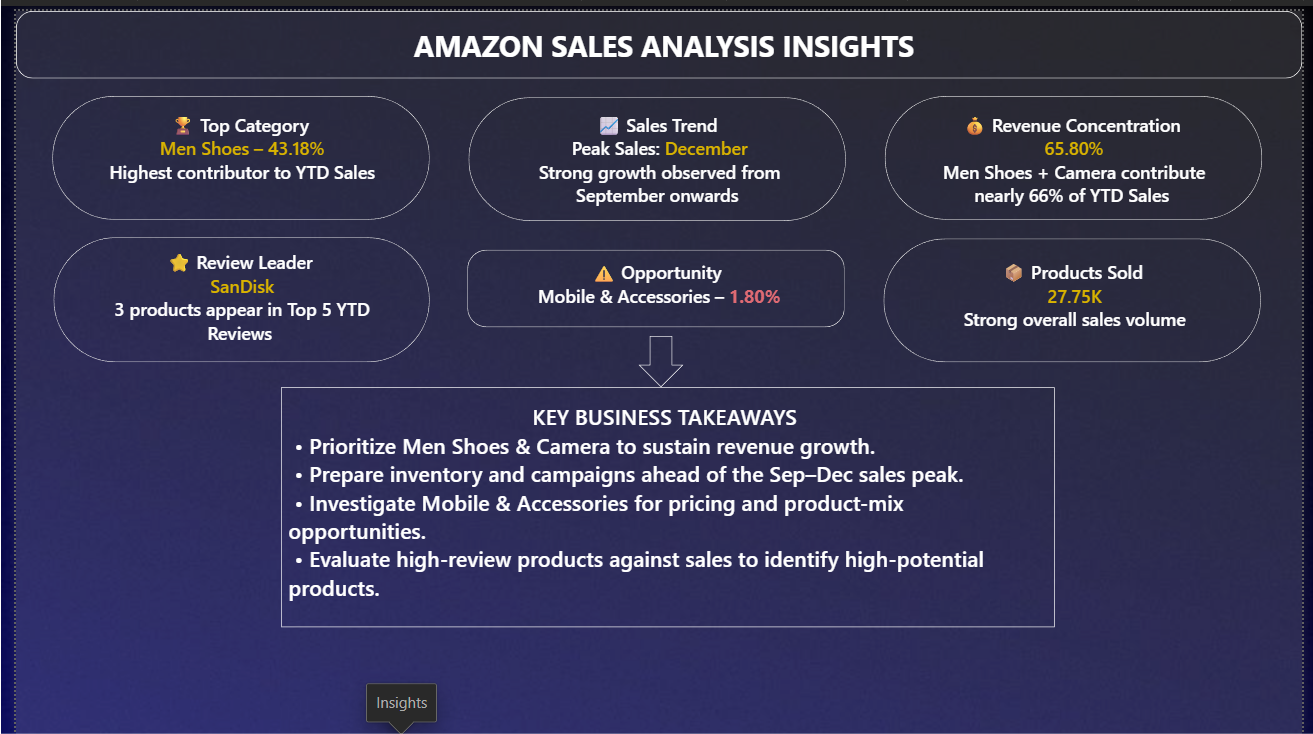

The dashboard page shown, as its layout file describes it:
{"tool":"powerbi","page":{"name":"Insights","canvas":[1920,1080],"ordinal":1},"visuals":[{"type":"shape","title":"jhjkk","box":[0,0,1920.1,100.8],"z":0},{"type":"textbox","box":[291.1,22.4,1364,63.4],"z":1000},{"type":"textbox","box":[91.4,151.1,485.1,145.5],"z":1500},{"type":"shape","box":[54.1,126.9,563.5,184.7],"z":2000},{"type":"shape","box":[675.5,128.7,563.5,184.7],"z":4000},{"type":"shape","box":[1296.8,126.9,563.5,184.7],"z":5000},{"type":"shape","box":[56,337.7,561.6,186.6],"z":5500},{"type":"textbox","box":[714.7,151.1,485.1,145.5],"z":6000},{"type":"textbox","box":[1339.7,151.1,472.1,145.5],"z":7000},{"type":"textbox","box":[91.4,356.4,485.1,167.9],"z":9000},{"type":"shape","box":[1295,339.6,563.5,184.7],"z":10000},{"type":"shape","box":[673.6,356.4,563.5,115.7],"z":11000},{"type":"shape","box":[395.6,561.6,1155,358.3],"z":12000},{"type":"shape","box":[929.2,485.1,67.2,76.5],"z":13000},{"type":"textbox","box":[1321.1,371.3,511.3,113.8],"z":14000},{"type":"textbox","box":[675.5,371.3,561.6,100.8],"z":15000},{"type":"textbox","box":[406.8,584,1123.3,358.3],"z":16000}]}

Visuals, with their boxes in screenshot pixels (x1, y1, x2, y2), scaled from the page's 1920x1080 canvas onto the 1313x734 screenshot:
"jhjkk" shape: region(0, 0, 1312, 69)
textbox: region(199, 15, 1132, 58)
textbox: region(63, 103, 394, 202)
shape: region(37, 86, 422, 212)
shape: region(462, 87, 847, 213)
shape: region(887, 86, 1272, 212)
shape: region(38, 230, 422, 356)
textbox: region(489, 103, 820, 202)
textbox: region(916, 103, 1239, 202)
textbox: region(63, 242, 394, 356)
shape: region(886, 231, 1271, 356)
shape: region(461, 242, 846, 321)
shape: region(271, 382, 1060, 625)
shape: region(635, 330, 681, 382)
textbox: region(903, 252, 1253, 330)
textbox: region(462, 252, 846, 321)
textbox: region(278, 397, 1046, 640)
